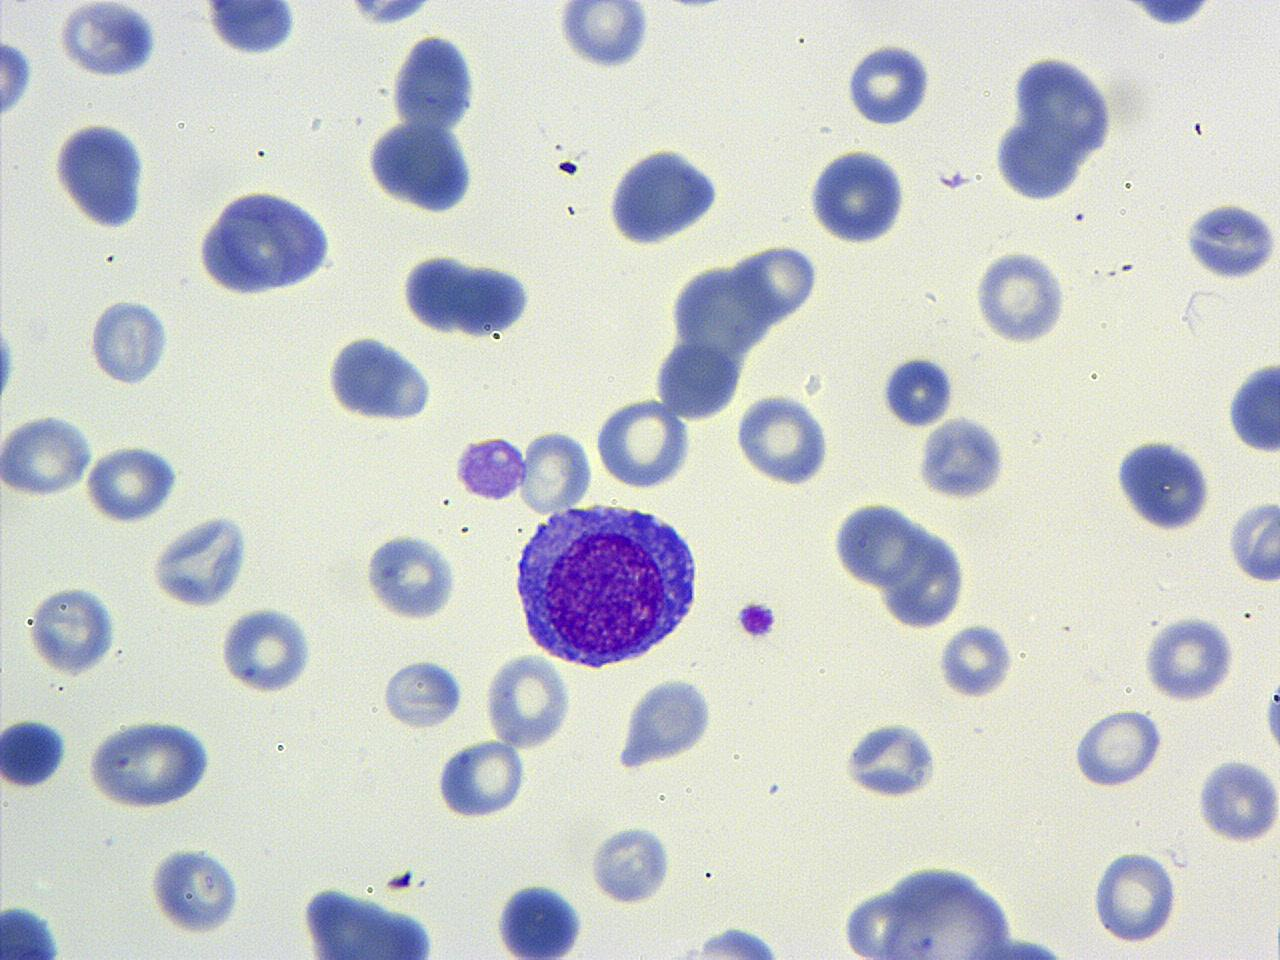Platelets: (364, 528, 458, 625), (1141, 614, 1235, 706), (842, 40, 937, 128), (916, 414, 1010, 503), (55, 3, 162, 81), (86, 294, 171, 389), (1196, 758, 1278, 848), (588, 823, 674, 907), (380, 653, 466, 733), (553, 3, 651, 71), (877, 353, 956, 430), (935, 624, 1015, 700), (452, 432, 528, 504), (1227, 495, 1280, 587), (685, 924, 789, 960), (0, 34, 36, 122), (733, 598, 780, 642), (0, 320, 18, 405), (1260, 684, 1280, 758), (934, 168, 971, 191), (383, 870, 417, 893), (1269, 916, 1280, 959), (556, 159, 579, 177)
RBC: (85, 714, 216, 812), (803, 146, 911, 247), (734, 389, 834, 488), (362, 526, 463, 624), (593, 394, 694, 491), (1089, 844, 1180, 948), (972, 249, 1070, 345), (219, 602, 315, 696), (1139, 612, 1237, 704), (483, 650, 572, 750), (82, 442, 182, 524), (0, 411, 95, 499), (1069, 706, 1167, 790), (434, 734, 526, 822), (732, 239, 822, 323), (378, 655, 466, 733), (520, 426, 594, 512), (935, 620, 1015, 700)
WBC: (508, 498, 703, 672), (834, 854, 1075, 958), (987, 47, 1119, 206), (191, 182, 340, 301), (862, 511, 974, 632), (604, 140, 725, 250), (84, 714, 214, 812), (51, 117, 152, 232), (364, 118, 480, 216), (802, 145, 910, 248), (296, 884, 442, 960), (322, 330, 437, 424), (1110, 432, 1214, 534), (148, 508, 254, 610), (614, 672, 718, 772), (735, 386, 835, 485), (147, 840, 246, 937), (25, 580, 119, 680), (389, 30, 480, 133), (830, 497, 926, 594), (915, 409, 1014, 503), (361, 530, 459, 624), (218, 604, 316, 696), (840, 715, 943, 801), (83, 294, 176, 388), (55, 2, 160, 83), (0, 412, 96, 499), (1181, 200, 1280, 283), (440, 252, 534, 339), (434, 736, 528, 822), (493, 877, 588, 959), (399, 250, 476, 336), (201, 1, 301, 61), (1225, 354, 1280, 459), (452, 431, 528, 504), (1, 714, 72, 791), (1226, 495, 1280, 586), (1089, 0, 1245, 31), (672, 922, 804, 958), (1, 901, 66, 958), (344, 0, 437, 29)
